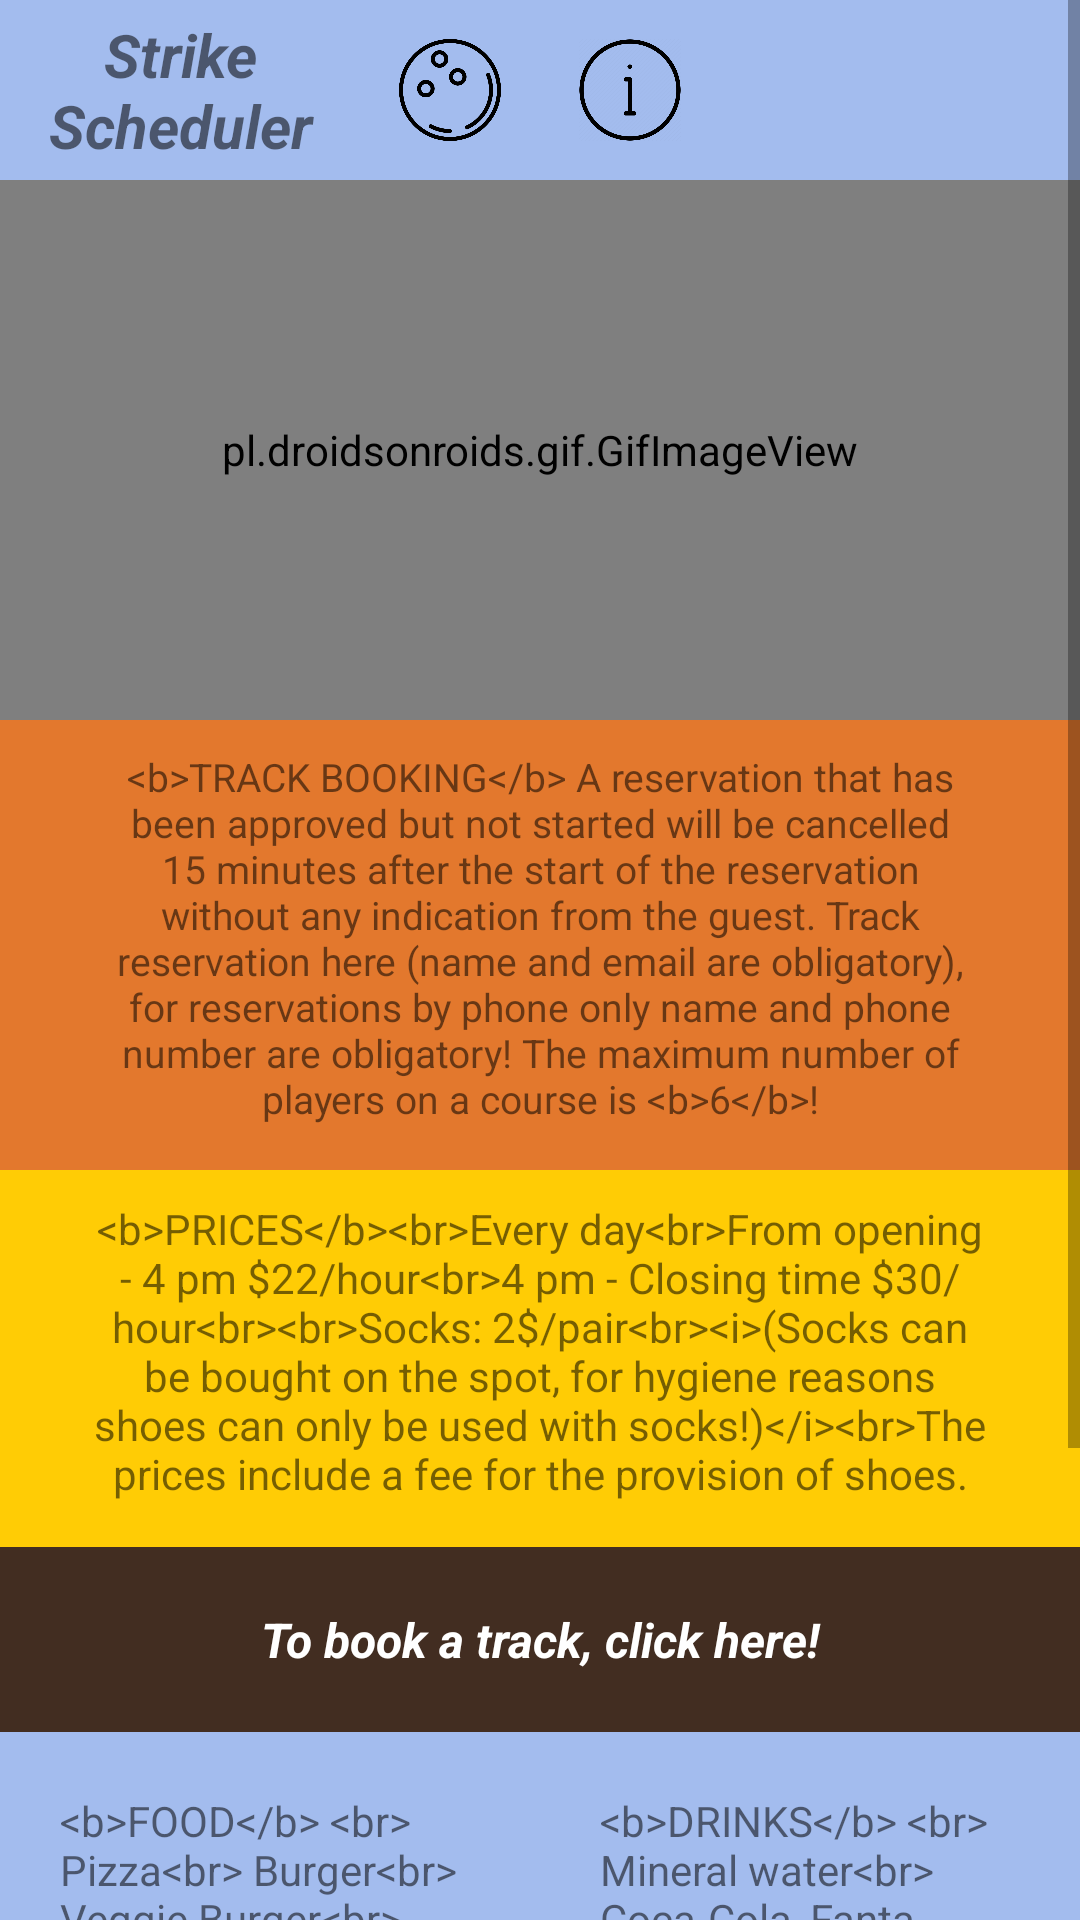

Screen size 1080 x 1920. Icon name, then its center in pixels as [x,y]:
Bowling: [450,90]
